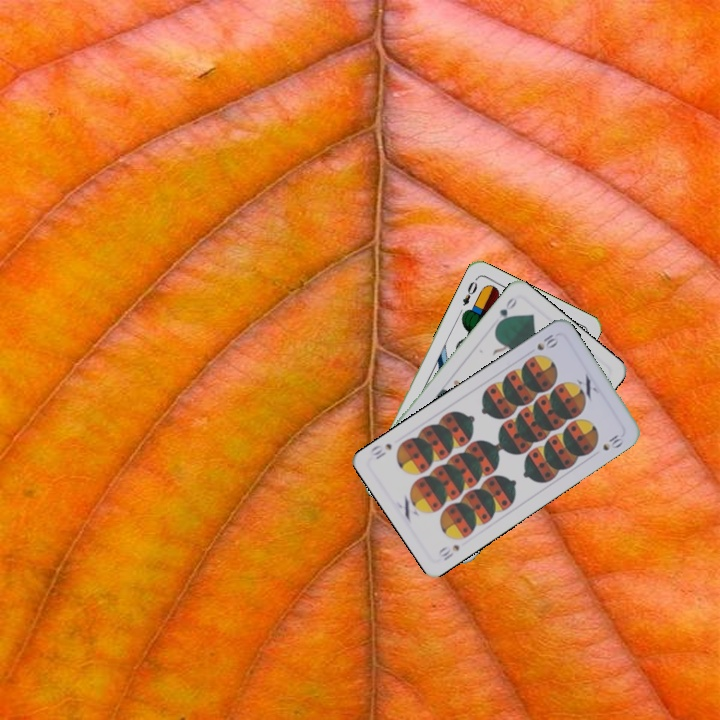EO: (458, 277, 480, 308)
GO: (492, 293, 519, 329)
S10: (533, 330, 562, 353), (434, 540, 462, 563)
